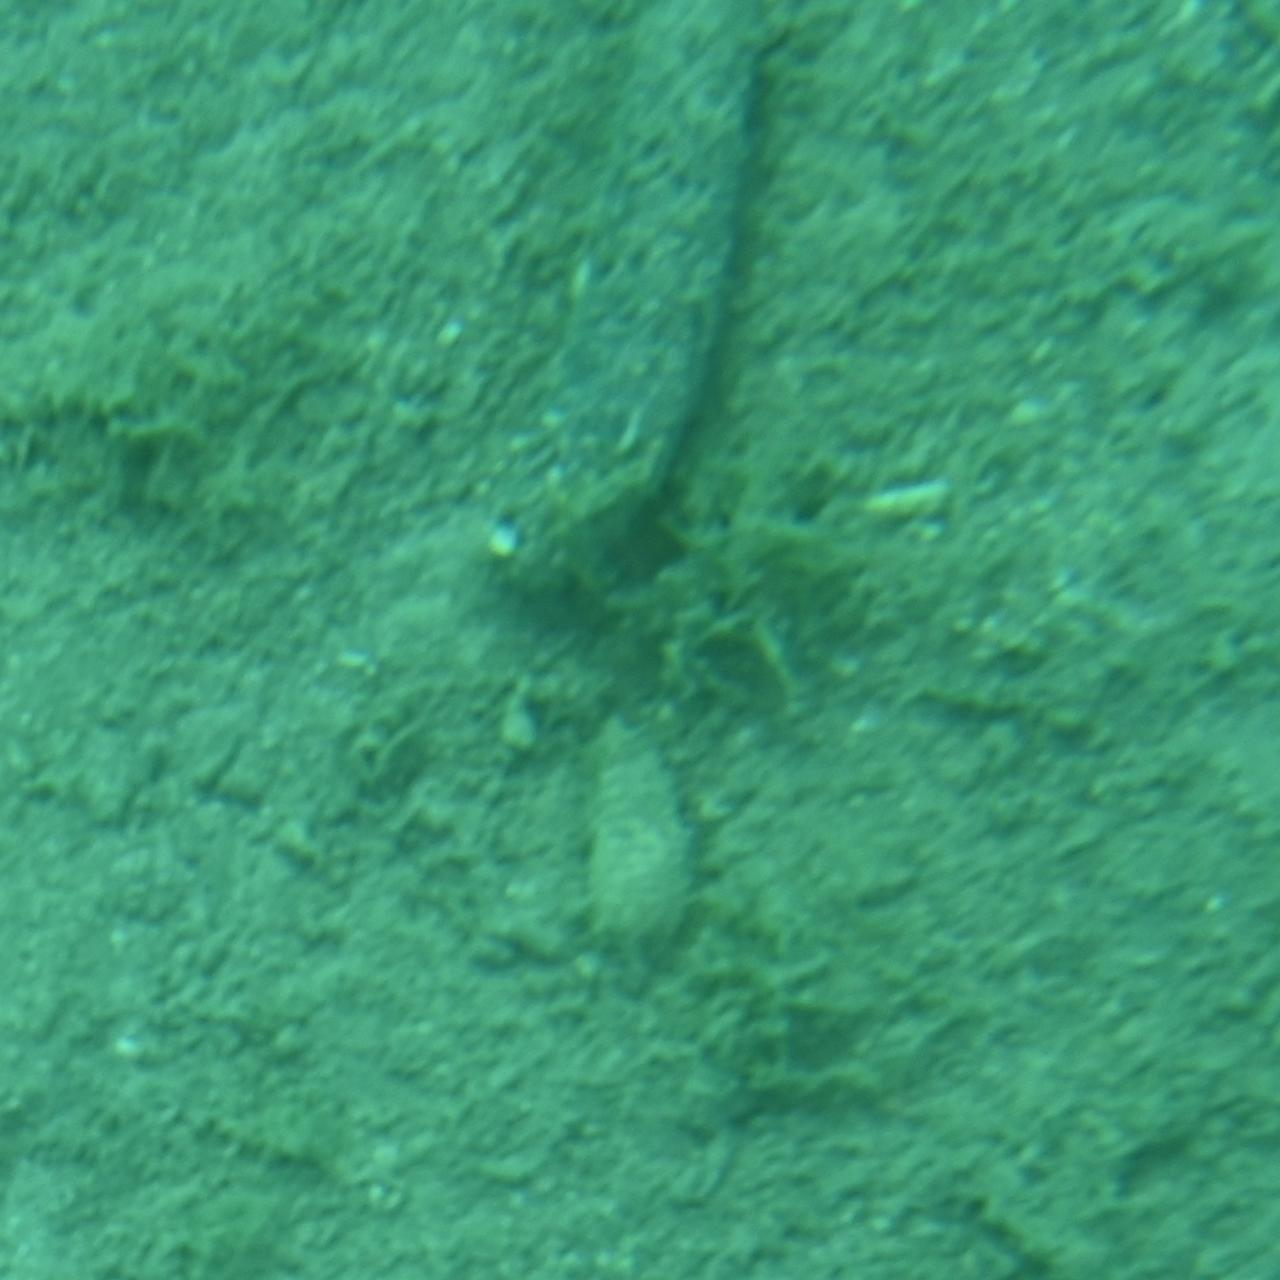Holothuria tubulosa: (492, 0, 788, 628)
